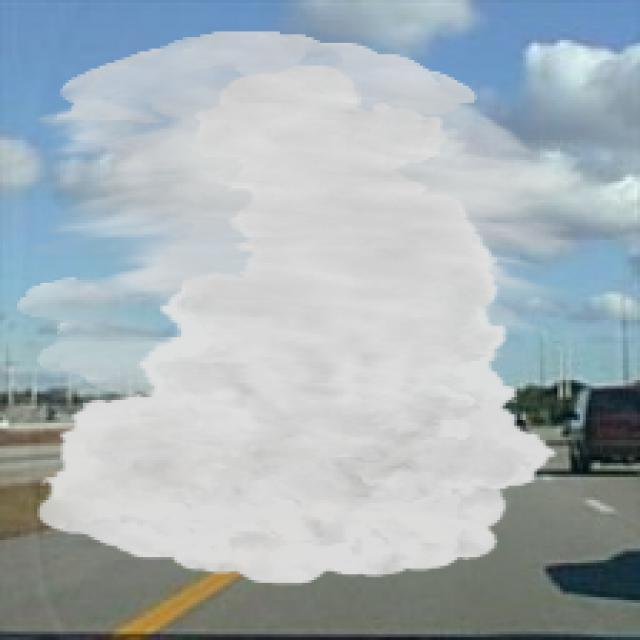smoke: (17, 31, 580, 586)
